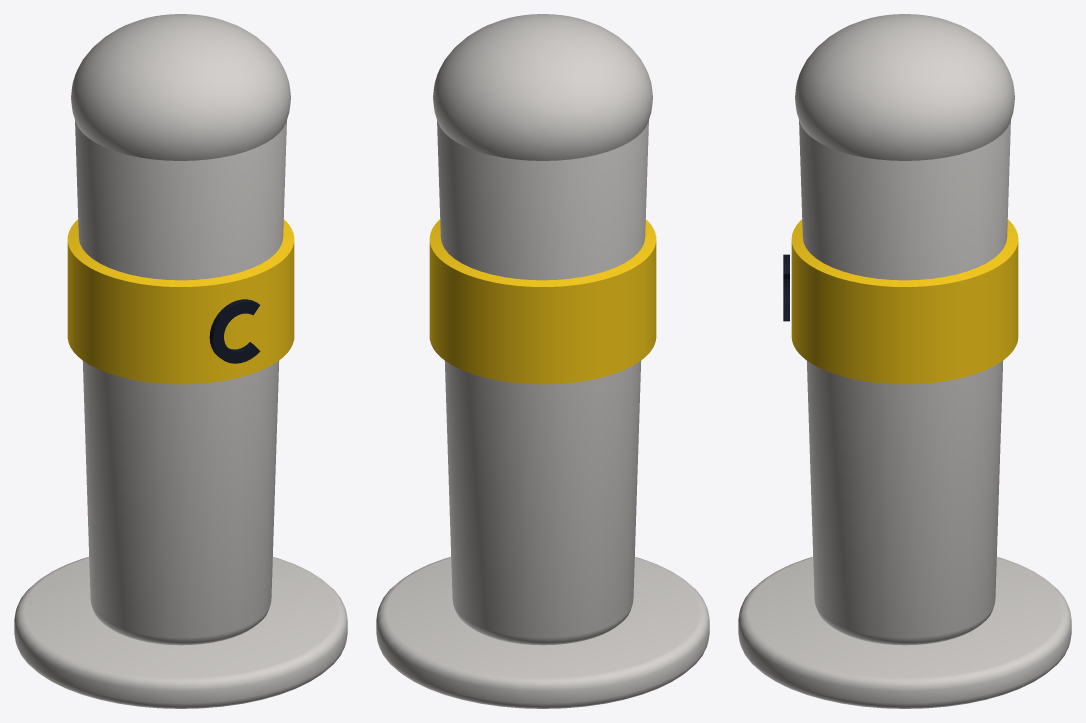
File: reward-armband-classic.glb
3 views of the same model, side by side, from view 1: azimuth 30°, elevation 25°; view 2: azimuth 150°, elevation 25°; view 3: azimuth 270°, elevation 25° (orthographic).
Visible parts, largest first — view 1: upper, foot, cap, band0, C; view 2: upper, foot, cap, band0; view 3: upper, foot, cap, band0.
Boxes of the visible parts, left/top/right/bottom form: upper: left=75, top=120, right=286, bottom=645; foot: left=14, top=557, right=347, bottom=708; cap: left=71, top=14, right=290, bottom=160; band0: left=67, top=219, right=294, bottom=384; C: left=209, top=299, right=260, bottom=363; upper: left=437, top=120, right=648, bottom=645; foot: left=376, top=557, right=709, bottom=708; cap: left=433, top=14, right=652, bottom=160; band0: left=429, top=219, right=656, bottom=384; upper: left=799, top=120, right=1010, bottom=645; foot: left=738, top=557, right=1071, bottom=708; cap: left=795, top=14, right=1014, bottom=160; band0: left=791, top=219, right=1018, bottom=384.
Bounding box in the file's own units: 1.45 × 2.94 × 1.45.
